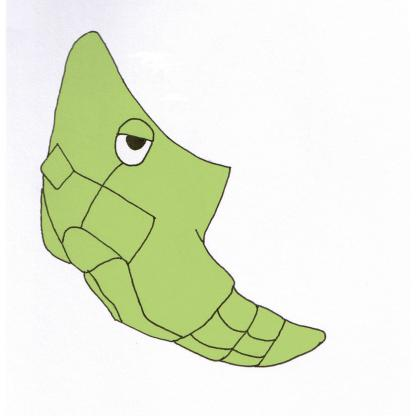Metapod: (31, 21, 330, 382)
